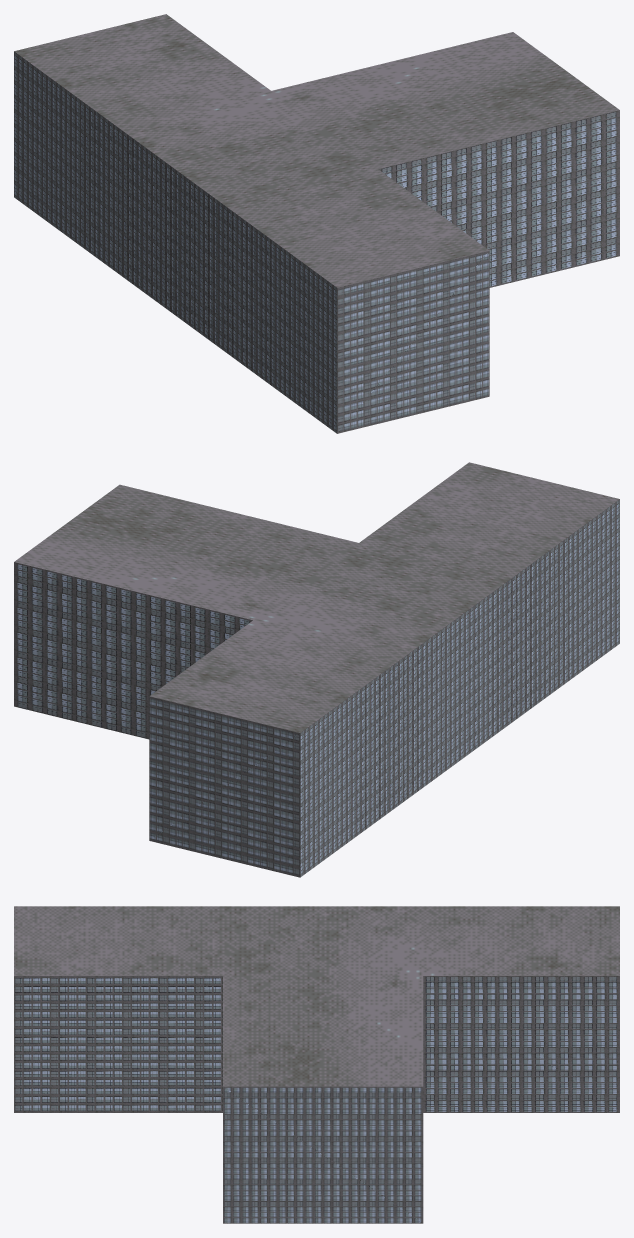
The picture shows the model from 3 angles, top to bottom: view 1: azimuth 30°, elevation 25°; view 2: azimuth 150°, elevation 25°; view 3: azimuth 270°, elevation 25°; orthographic projection. The views are drawn at different scales.
Visible parts, largest first — view 1: pCube26; view 2: pCube26; view 3: pCube26.
Boxes of the visible parts, box(x1,y1,x2,y2) form: pCube26: box(14, 14, 619, 433); pCube26: box(14, 462, 619, 877); pCube26: box(14, 906, 619, 1223).
Size of the model in its own units: 135 by 47.73 by 191.
2 materials, 2 textured.
